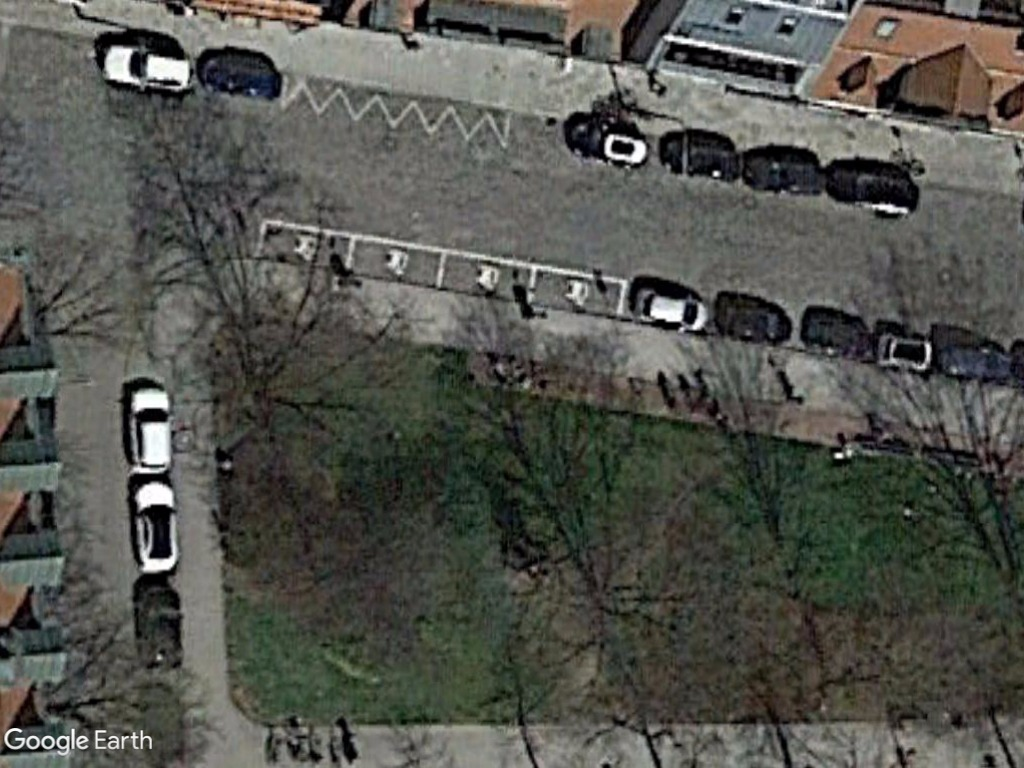car: (95, 36, 198, 97), (123, 378, 182, 480), (131, 472, 183, 578), (630, 281, 714, 338)
